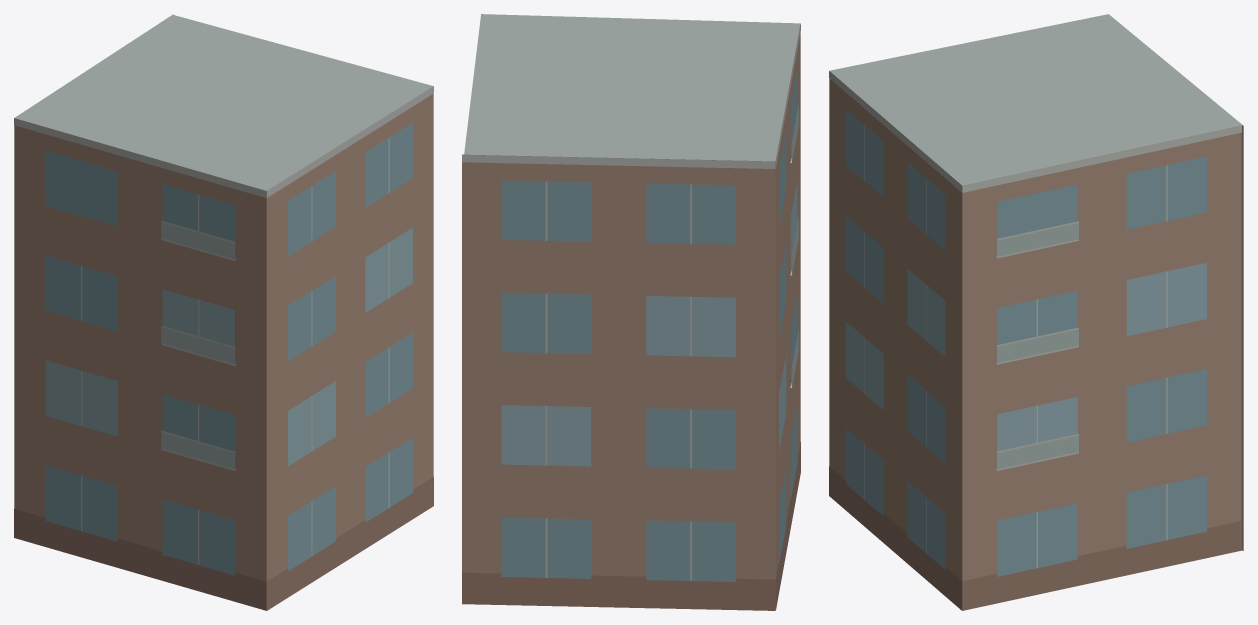
The model's file is survey-upis-32748739.glb.
The picture shows the model from 3 angles, left to right: view 1: azimuth 30°, elevation 25°; view 2: azimuth 150°, elevation 25°; view 3: azimuth 270°, elevation 25°; orthographic projection. The views are drawn at different scales.
Parts seen in each view (by area): view 1: survey-upis-32748739.tmp; view 2: survey-upis-32748739.tmp; view 3: survey-upis-32748739.tmp.
Part boxes in pixels (x1=…): survey-upis-32748739.tmp: x1=14, y1=14, x2=433, y2=610; survey-upis-32748739.tmp: x1=462, y1=14, x2=800, y2=610; survey-upis-32748739.tmp: x1=829, y1=14, x2=1243, y2=610.
Bounding box in the file's own units: 12.39 × 14.3 × 12.65.
